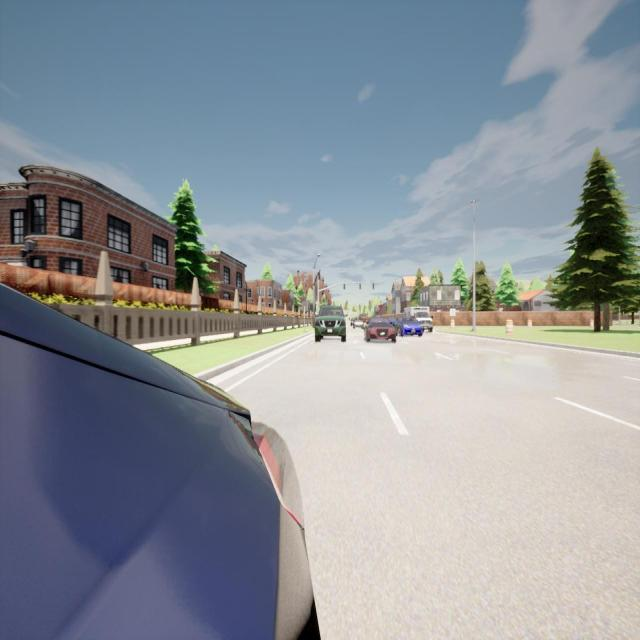Traffic_Signs: (302, 300, 308, 312), (450, 307, 456, 317)
Vehicle: (0, 284, 318, 638), (315, 303, 346, 343), (364, 318, 396, 342), (404, 306, 433, 332), (396, 315, 423, 337), (353, 316, 364, 329), (359, 313, 368, 321), (350, 317, 354, 325)
traffic_light: (343, 282, 346, 290), (358, 283, 362, 289), (372, 282, 374, 290)
